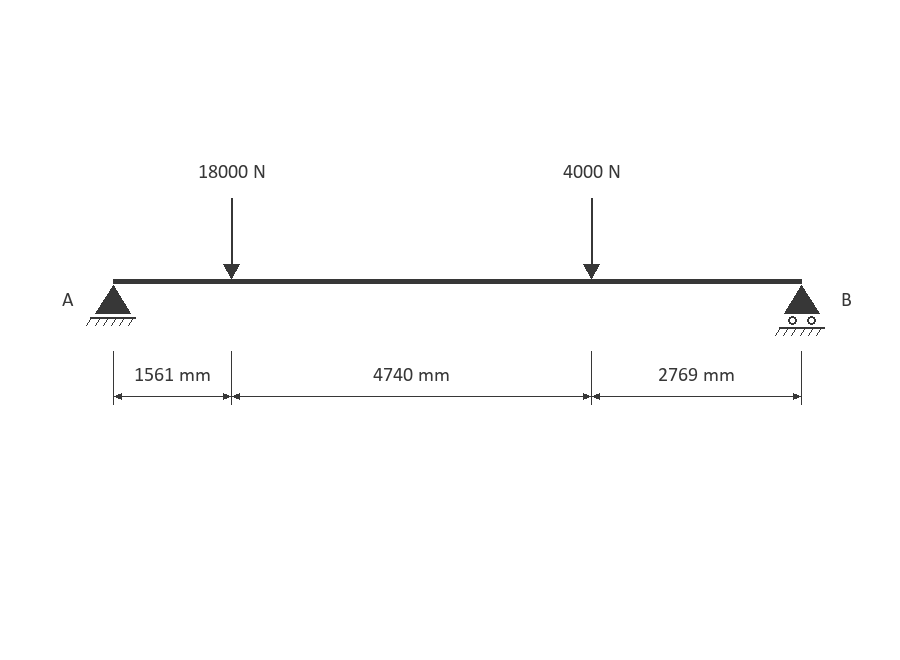pin_support: (86, 285, 136, 326)
point_load: (223, 198, 240, 279), (583, 198, 600, 279)
roller_support: (775, 285, 825, 336)
